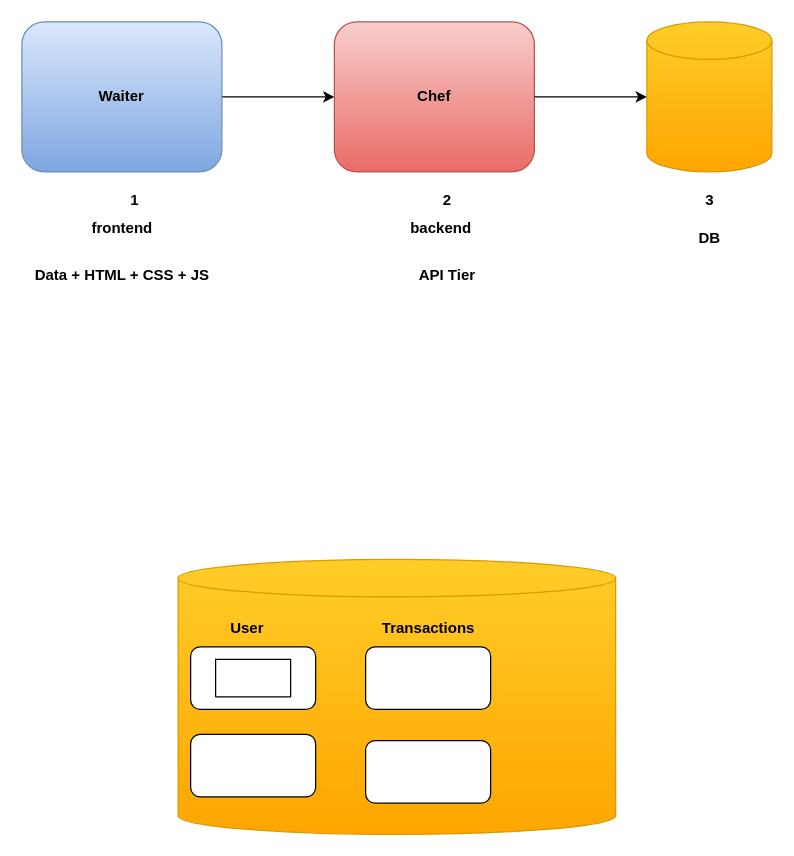
Some shapes in this 794 by 856 pixel diagram are drawn without their labels. Each missing label, with the centre of its shape:
Raw Items: point (709, 96)
Table: point (252, 677)
